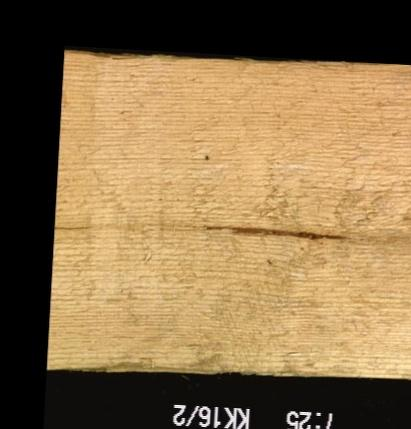split: (53, 219, 101, 245)
